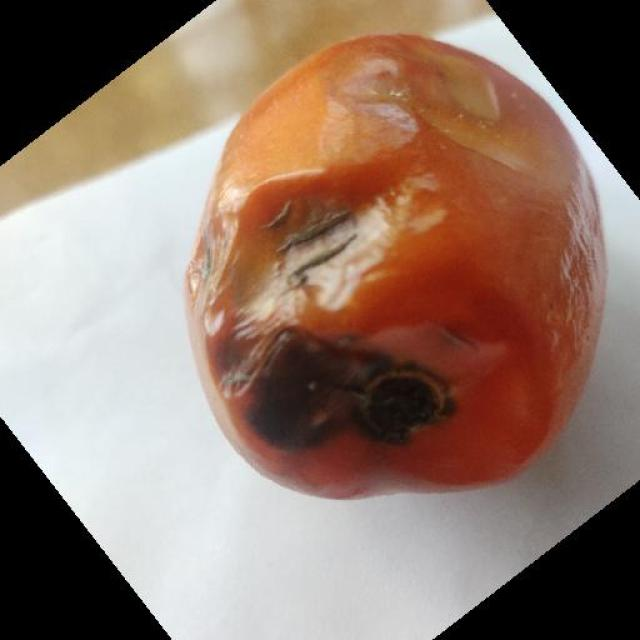Stale_tomato: (192, 61, 574, 488)
